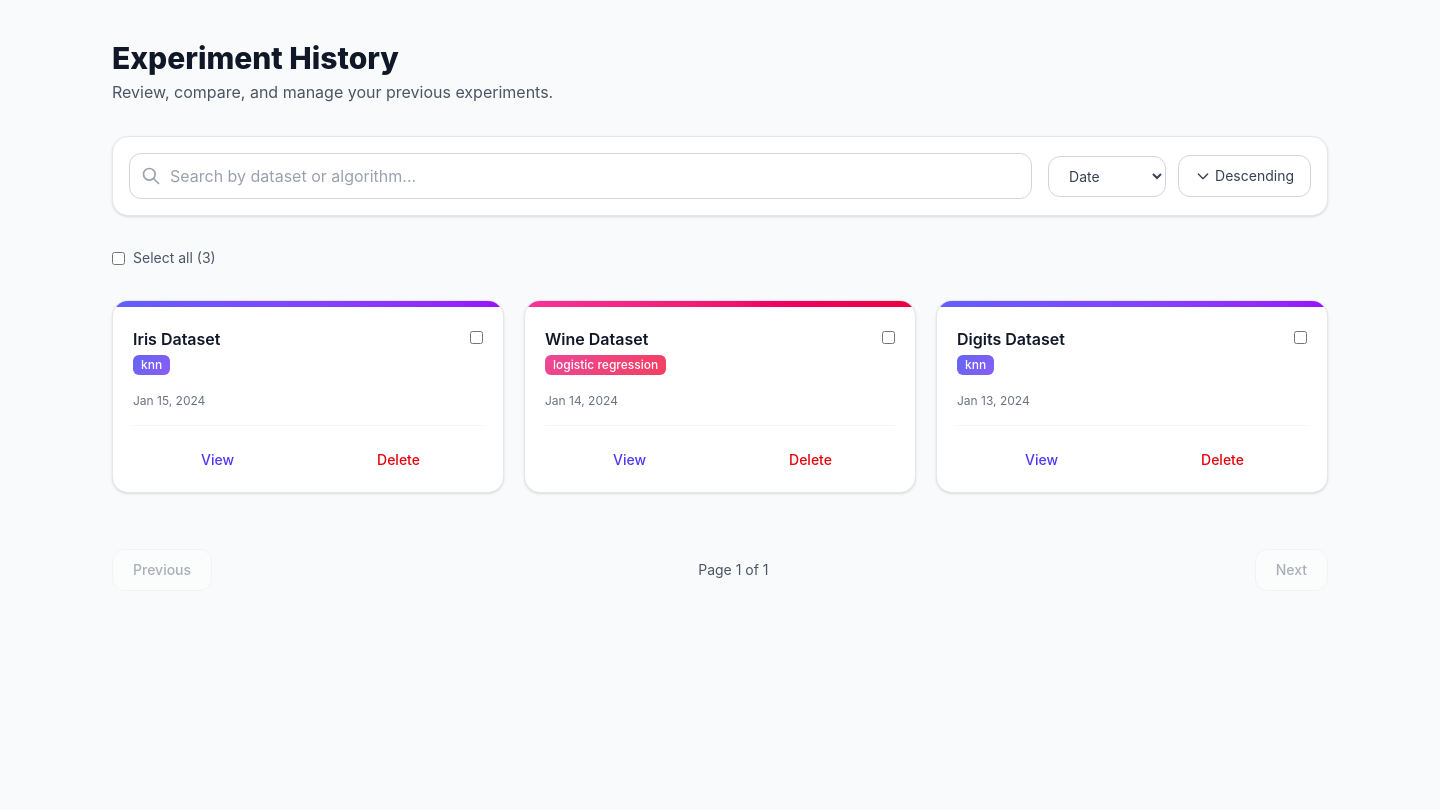
Test case: HistoryList › Floating Compare Bar › clears selection when clear button is clicked
Expected: the heading "Iris Dataset" is shown, 133,329 -> 220,349
Click the checkbox in the row of "Iris Dataset": click(476, 338) 470,331 -> 483,344
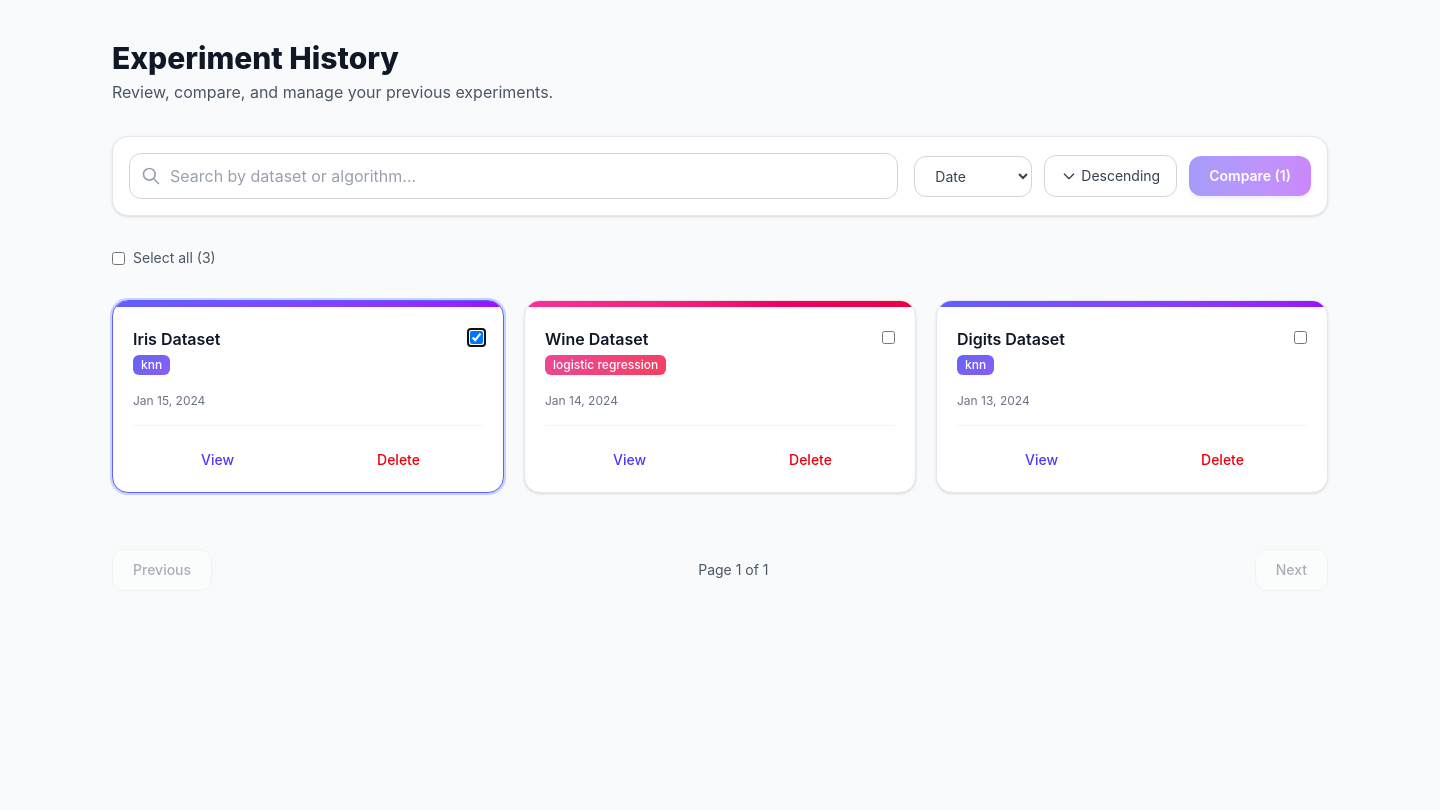
Click the checkbox in the row of "Wine Dataset": click(888, 338) 882,331 -> 895,344
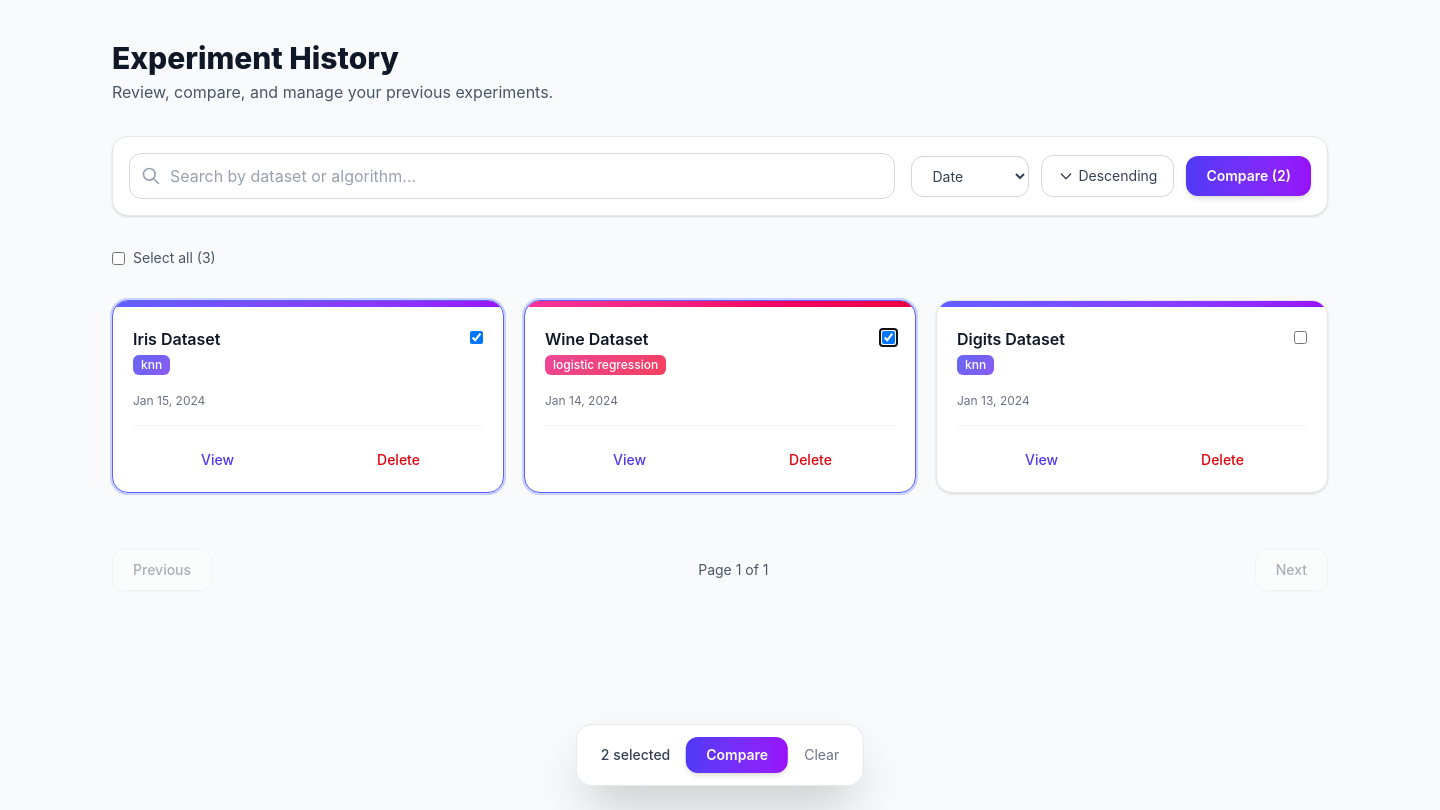
Result: the text "2 selected" is shown at 601,745 -> 670,765
Click the button "Clear": click(822, 755) 804,745 -> 839,765
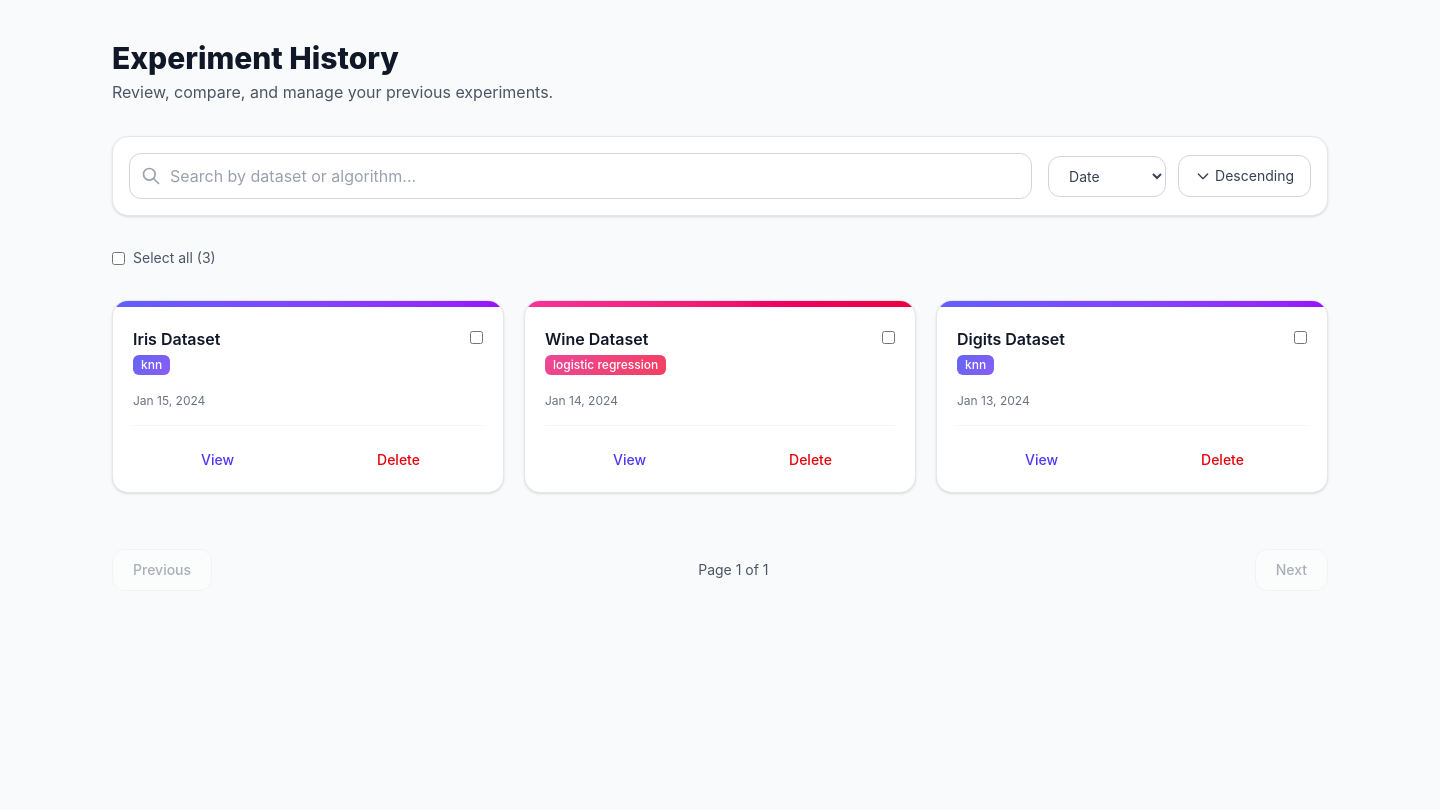
Result: the checkbox in the row of "Iris Dataset" is not checked at 470,331 -> 483,344
Result: the checkbox in the row of "Wine Dataset" is not checked at 882,331 -> 895,344
Result: the text "2 selected" is gone
